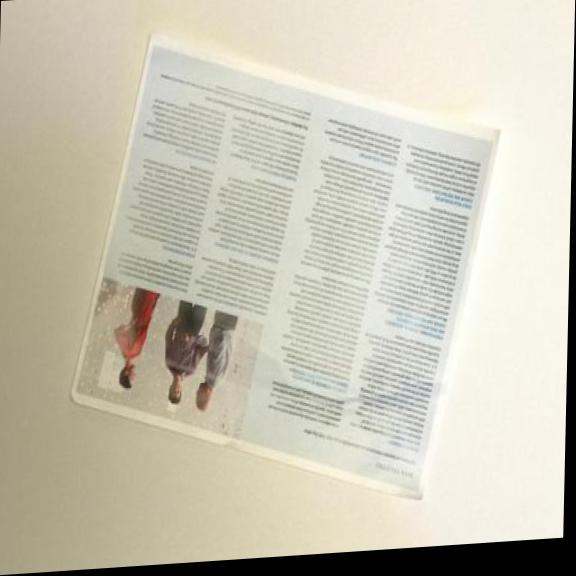Kertas: (61, 0, 507, 529)
